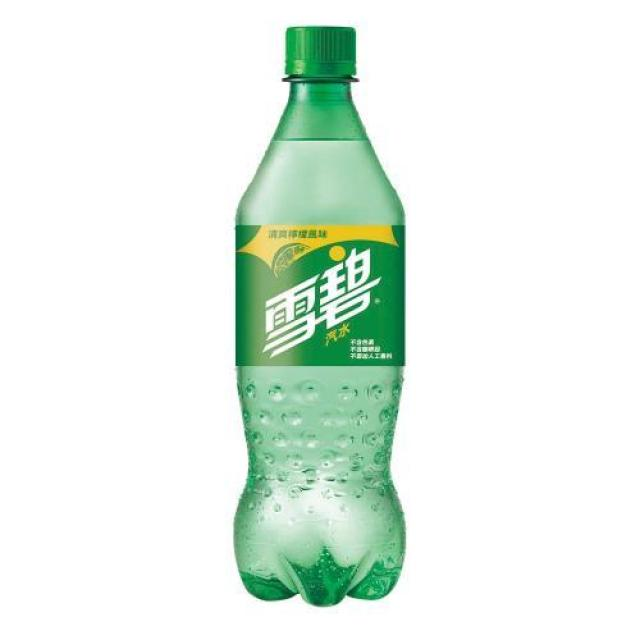bottle: (223, 21, 412, 614)
